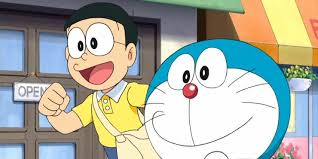doraemon: (142, 38, 292, 159)
